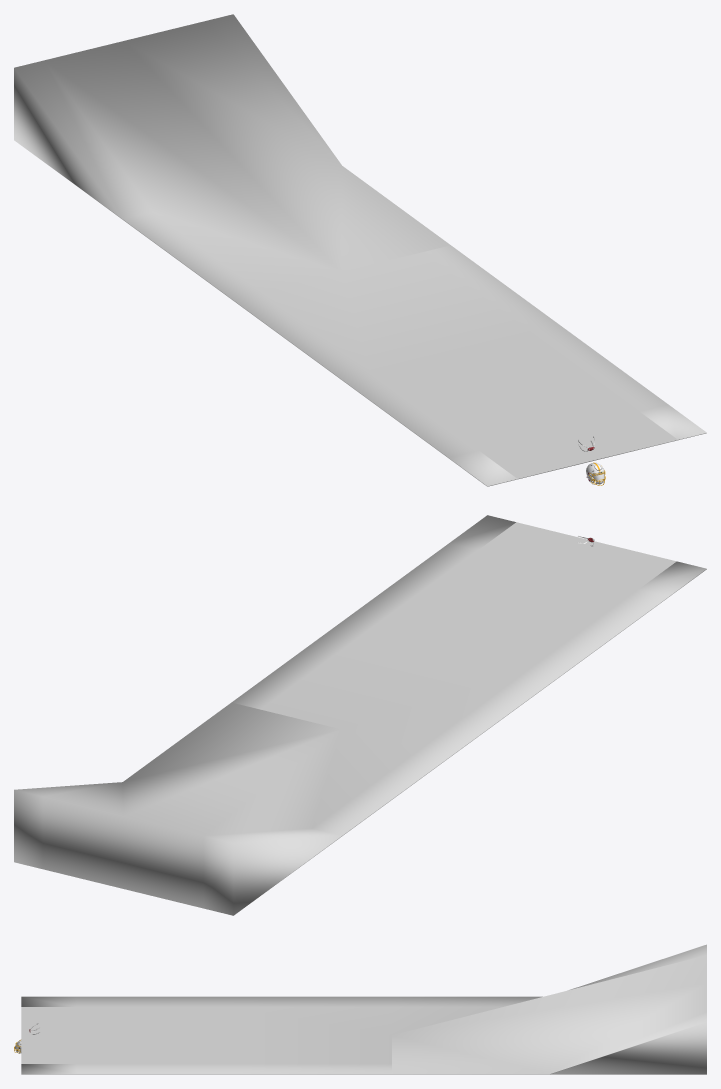
File: SpeedFlex.glb
The picture shows the model from 3 angles, top to bottom: view 1: azimuth 30°, elevation 25°; view 2: azimuth 150°, elevation 25°; view 3: azimuth 270°, elevation 25°; orthographic projection. The views are drawn at different scales.
Visible parts, largest first — view 1: BKG.004; view 2: BKG.004; view 3: BKG.004.
Part boxes in pixels (<box>): BKG.004: <box>14,14,706,486</box>; BKG.004: <box>14,515,706,915</box>; BKG.004: <box>21,944,706,1074</box>.
Bounding box in the file's own units: 7.75 × 3.21 × 29.25.
22 materials, 3 textured.
